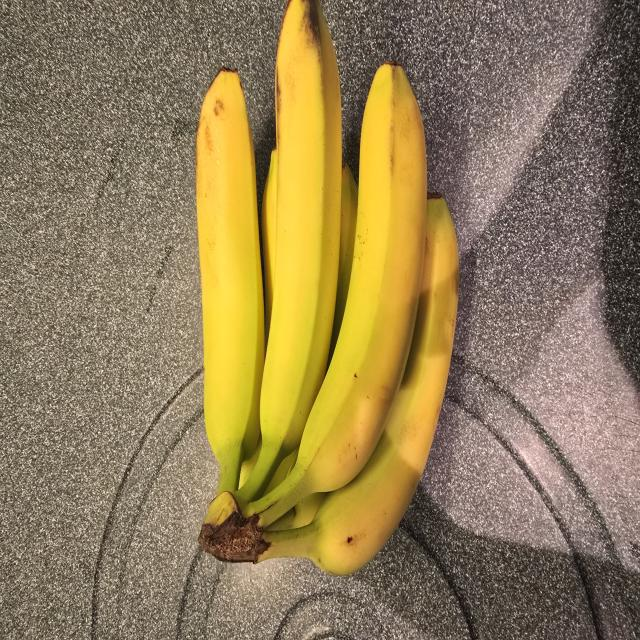Banana: (189, 0, 468, 590)
